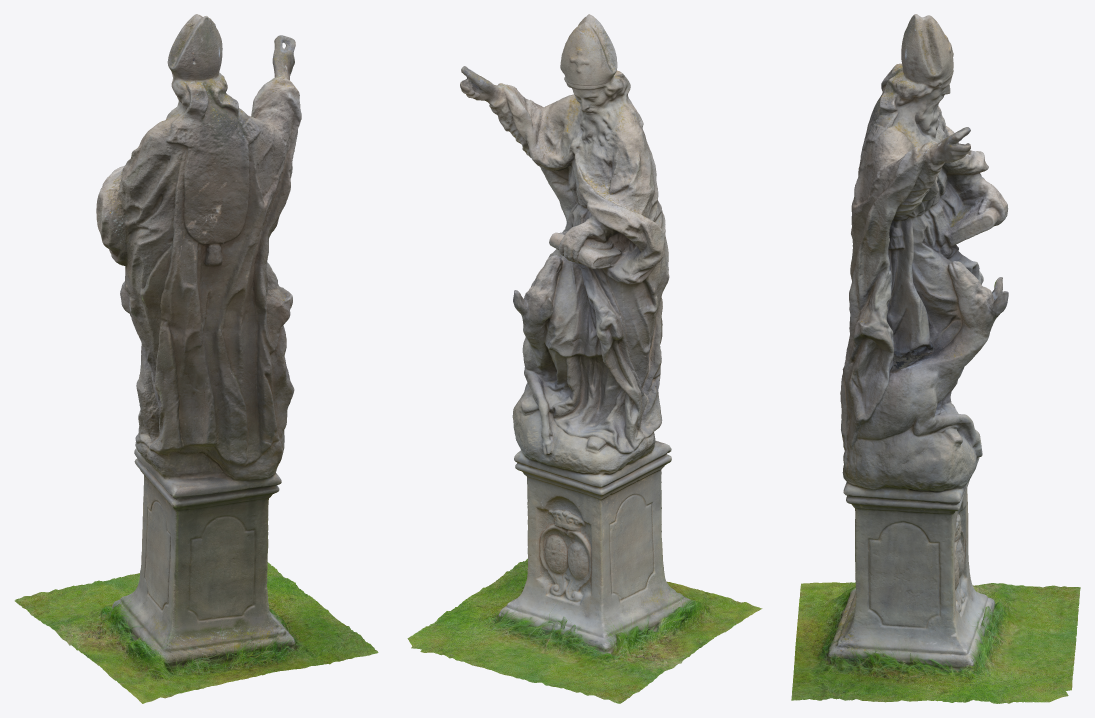
File: st-cyril.glb
The picture shows the model from 3 angles, left to right: view 1: azimuth 30°, elevation 25°; view 2: azimuth 150°, elevation 25°; view 3: azimuth 270°, elevation 25°; orthographic projection. The views are drawn at different scales.
Visible parts, largest first — view 1: Model; view 2: Model; view 3: Model.
Boxes of the visible parts, x1,y1,x2,y2 form: Model: (14,14,378,703); Model: (407,14,762,703); Model: (791,14,1080,703).
Bounding box in the file's own units: 0.8402 × 2.08 × 0.8622.
Materials: 3 (3 with a texture image).
